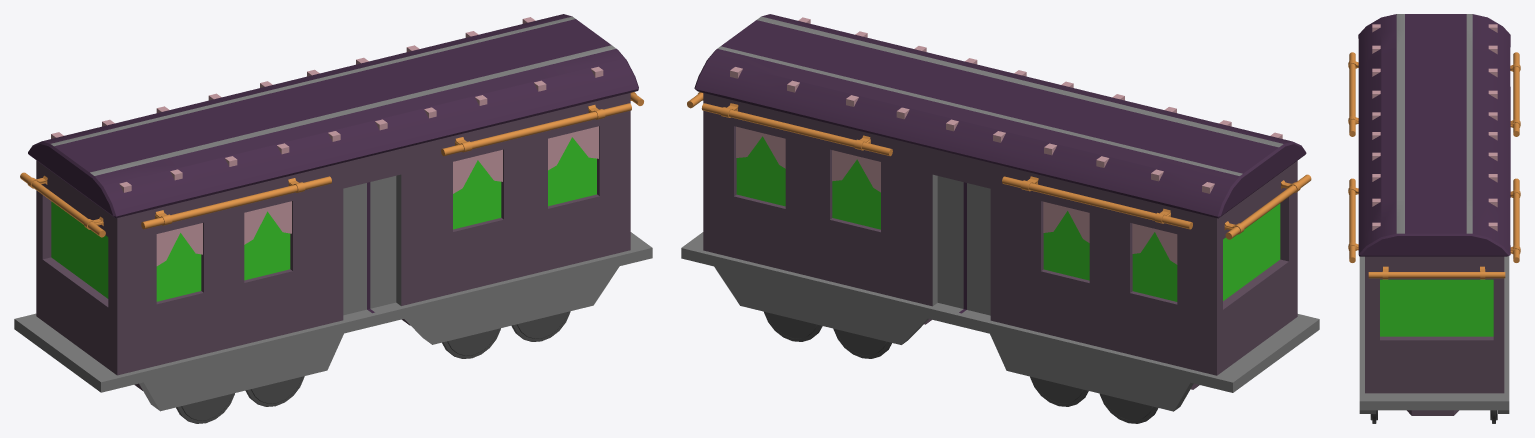
The model's file is Subway_Car_01.fbx.
3 views of the same model, side by side, from view 1: azimuth 30°, elevation 25°; view 2: azimuth 150°, elevation 25°; view 3: azimuth 270°, elevation 25° (orthographic). The views are drawn at different scales.
Visible parts, largest first — view 1: Railcar_01; view 2: Railcar_01; view 3: Railcar_01.
Boxes of the visible parts, <box> form: Railcar_01: <box>14,14,652,423</box>; Railcar_01: <box>681,14,1319,423</box>; Railcar_01: <box>1348,14,1520,423</box>.
Size of the model in its own units: 3.59 by 1.63 by 1.13.
1 material, 1 textured.
